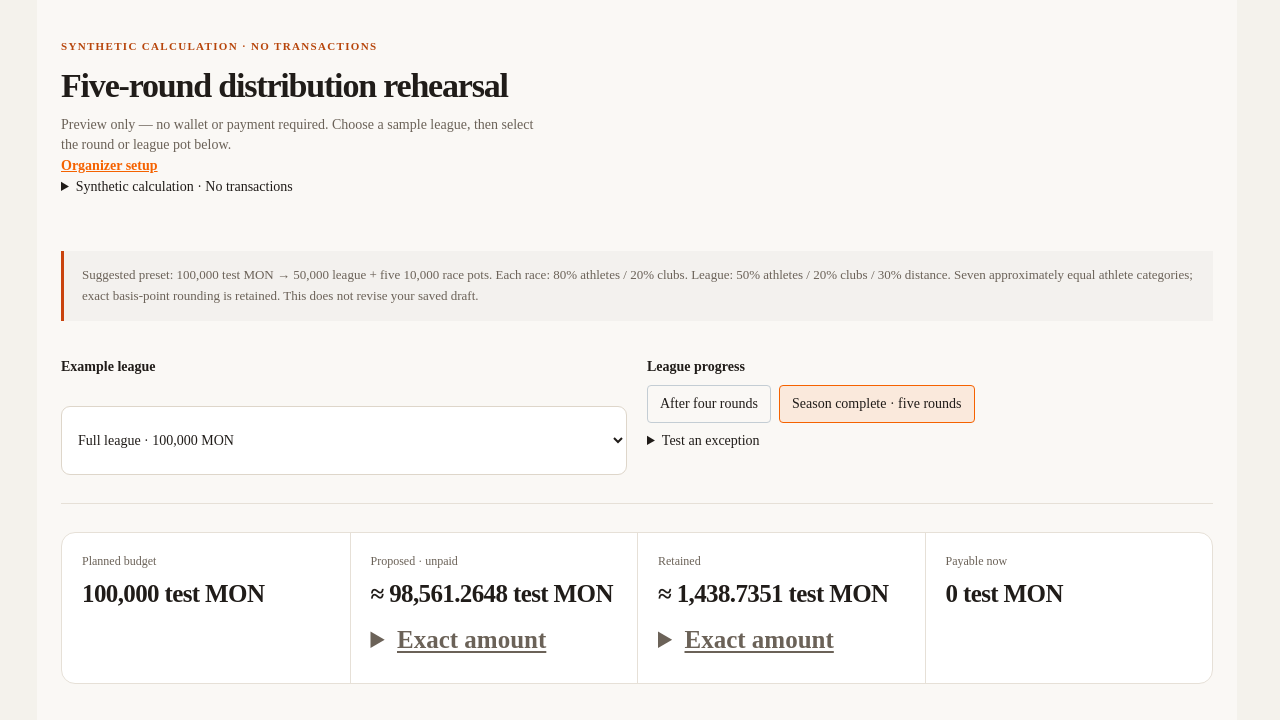
Scenario: anonymous synthetic distribution rehearsal › retains the full distance pot after a missing-distance scenario without erasing rank awards
Click the heading "Test an exception": click(711, 441) [662, 433, 760, 448]
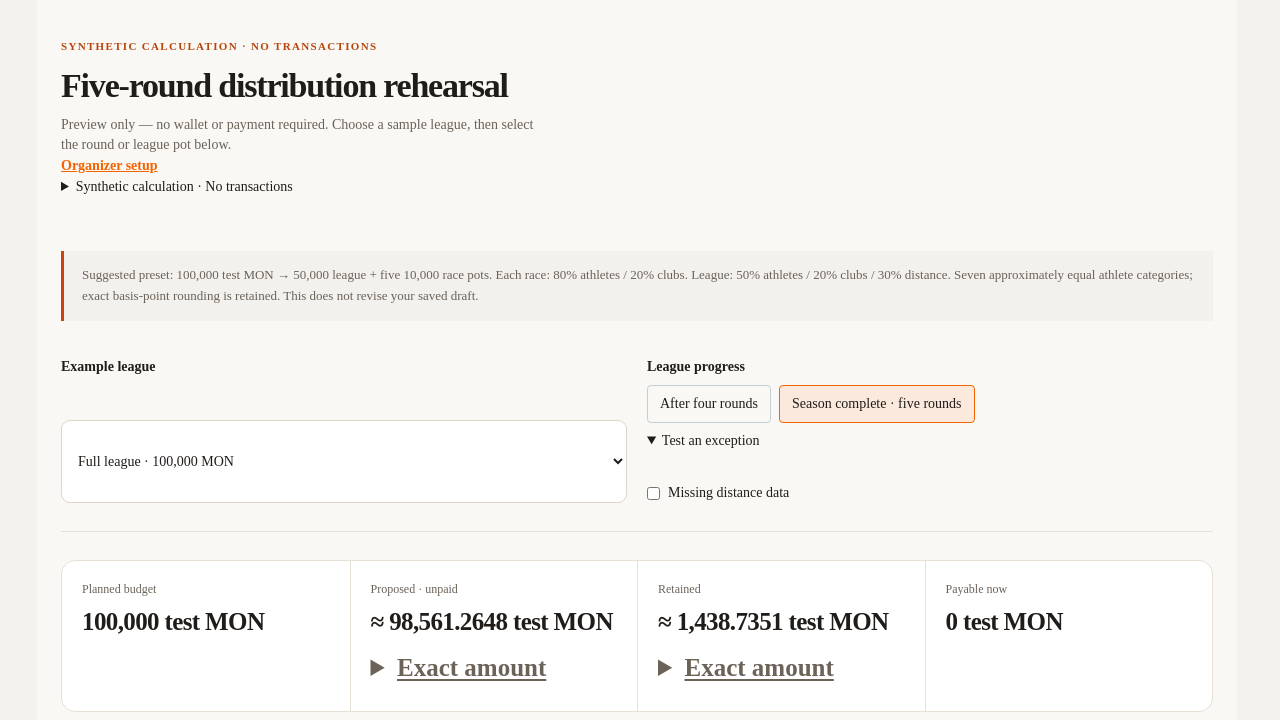
Click the checkbox labelled "Missing distance data": click(654, 493) [647, 487, 660, 500]
(page scrolled)
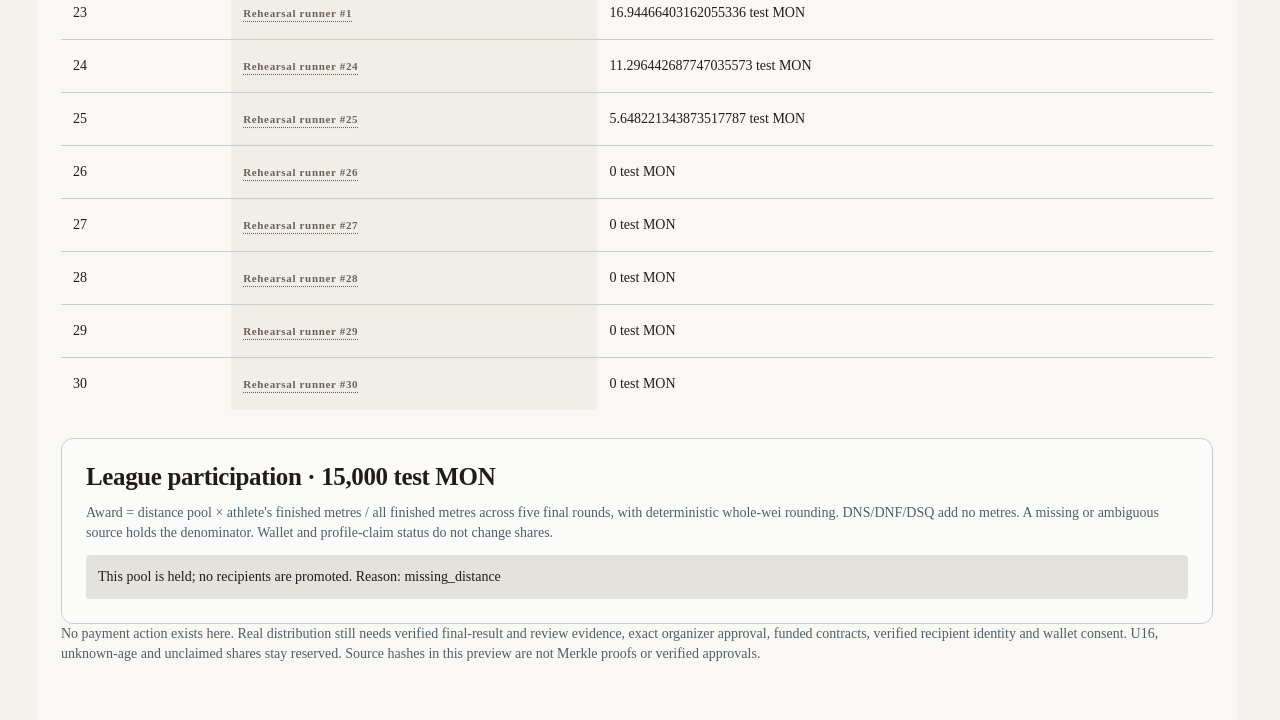
Expected: the message shows "missing_distance", [404, 569, 501, 584]
